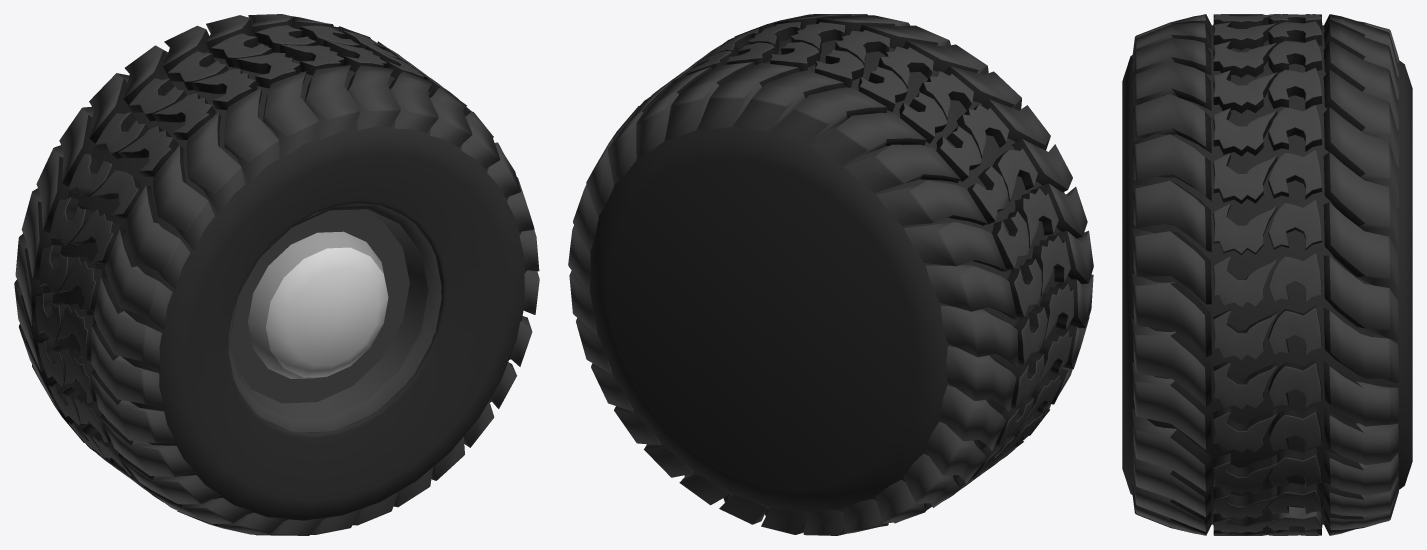
Rendered from wheel_07.fbx.
3 renders of one model, left to right at view 1: azimuth 30°, elevation 25°; view 2: azimuth 150°, elevation 25°; view 3: azimuth 270°, elevation 25°, orthographic. The views are drawn at different scales.
Visible parts, largest first — view 1: wheel_07; view 2: wheel_07; view 3: wheel_07.
Boxes of the visible parts, <box> form: wheel_07: <box>14,14,539,535</box>; wheel_07: <box>568,14,1093,535</box>; wheel_07: <box>1122,14,1412,535</box>.
Bounding box in the file's own units: 124 × 124 × 69.05.
